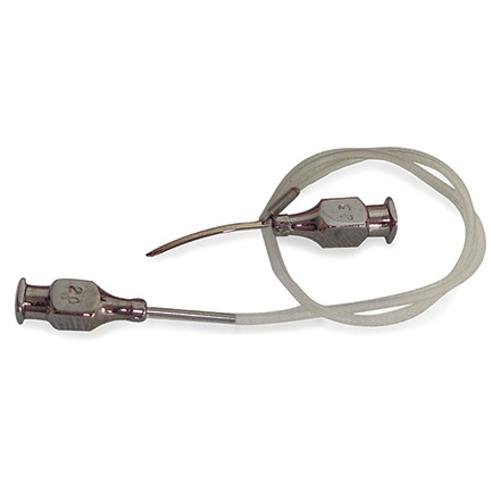Cannula: (12, 143, 488, 336)
